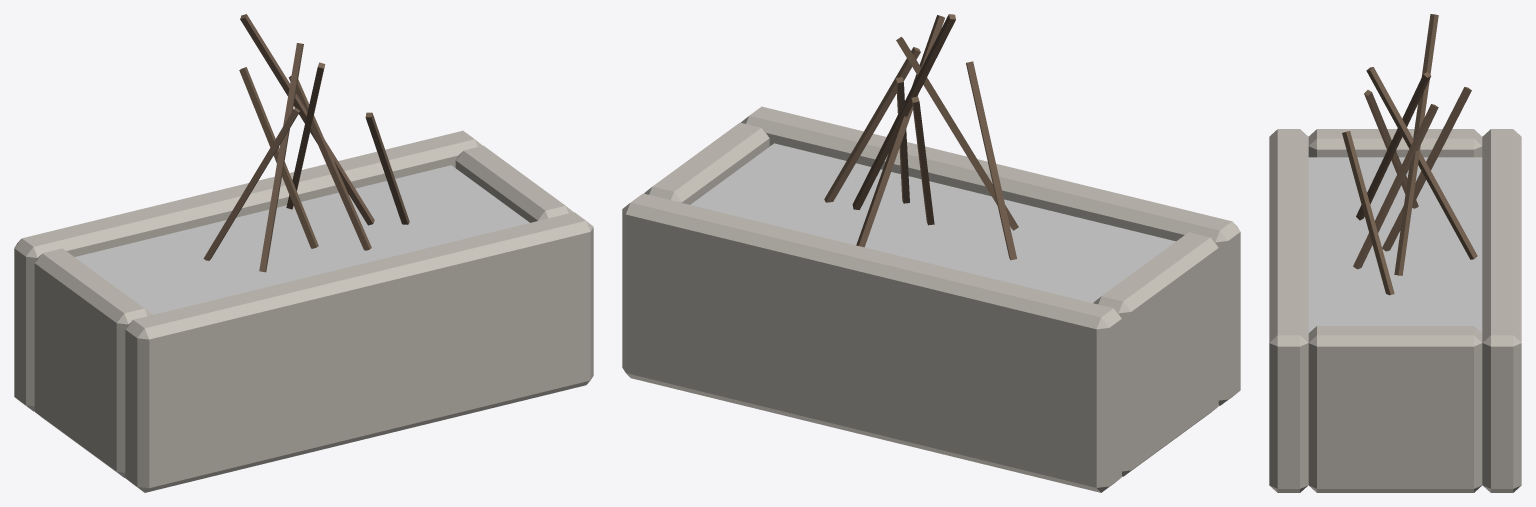
The model's file is dead_planter.glb.
3 views of the same model, side by side, from view 1: azimuth 30°, elevation 25°; view 2: azimuth 150°, elevation 25°; view 3: azimuth 270°, elevation 25° (orthographic). The views are drawn at different scales.
Visible parts, largest first — view 1: dead_planter; view 2: dead_planter; view 3: dead_planter.
Part boxes in pixels (box(x1,y1,x2,y2)): dead_planter: box(14, 14, 593, 492); dead_planter: box(622, 14, 1240, 492); dead_planter: box(1269, 14, 1521, 492).
Size of the model in its own units: 1.8 by 1.41 by 0.9.
